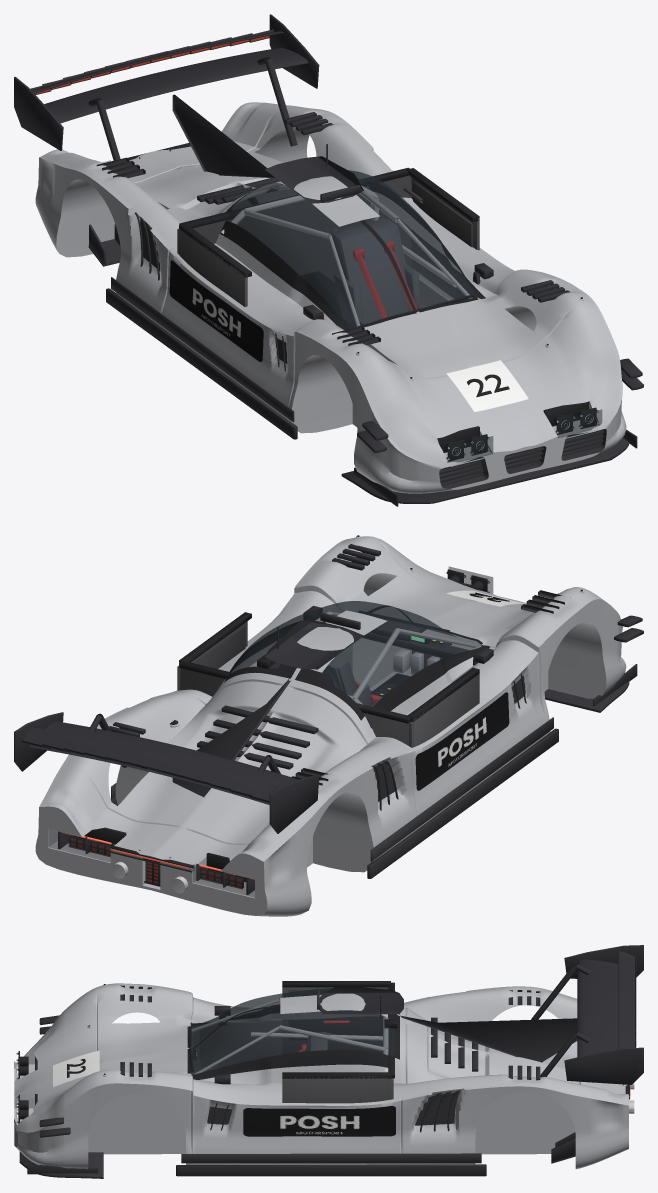
File: posh_lmp2.glb
3 views of the same model, one above another, from view 1: azimuth 30°, elevation 25°; view 2: azimuth 150°, elevation 25°; view 3: azimuth 270°, elevation 25° (orthographic). The views are drawn at different scales.
Parts seen in each view (by area): view 1: posh_lmp2; view 2: posh_lmp2; view 3: posh_lmp2.
Boxes of the visible parts, <box> form: posh_lmp2: <box>14,14,643,506</box>; posh_lmp2: <box>14,535,643,916</box>; posh_lmp2: <box>14,945,643,1178</box>.
Bounding box in the file's own units: 1.98 × 1.2 × 4.87.
25 materials, 1 textured.
